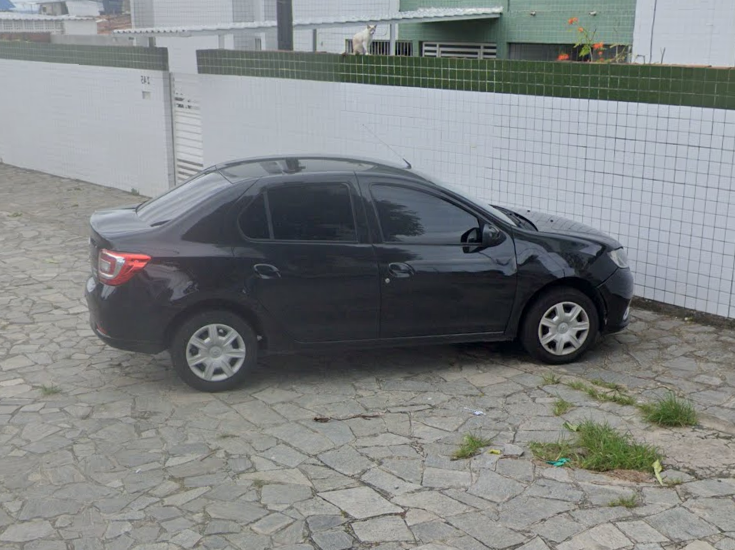car: (80, 122, 635, 397)
